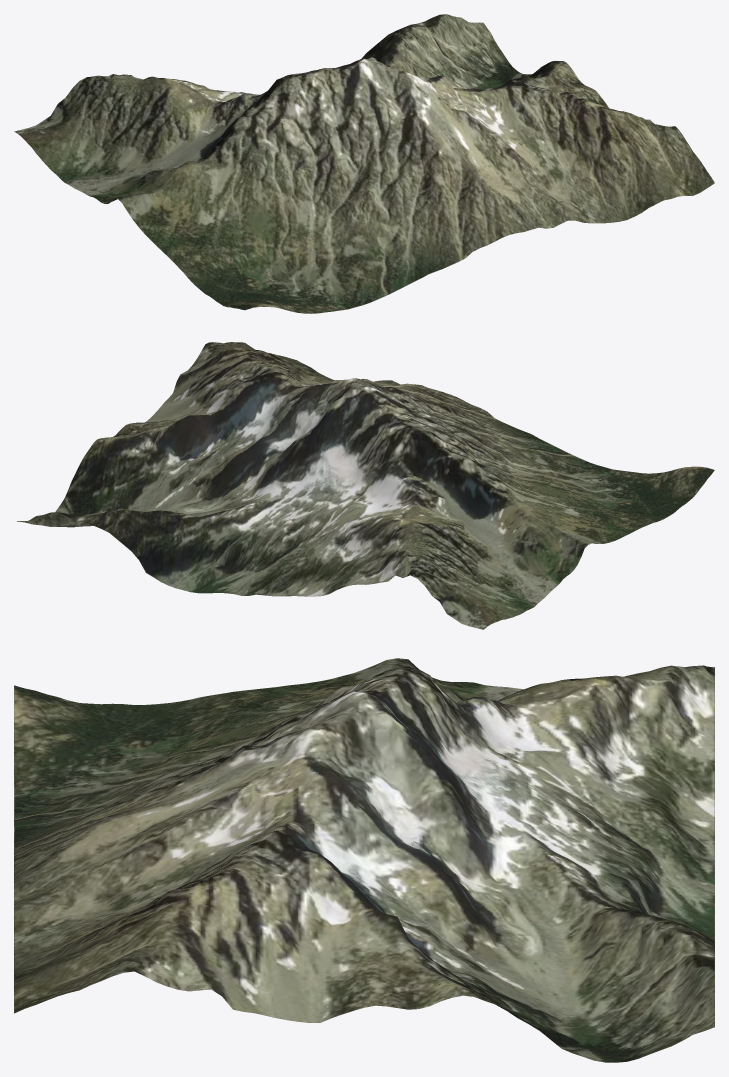
The model's file is stuart.glb.
3 views of the same model, one above another, from view 1: azimuth 30°, elevation 25°; view 2: azimuth 150°, elevation 25°; view 3: azimuth 270°, elevation 25° (orthographic). The views are drawn at different scales.
Visible parts, largest first — view 1: Object_2; view 2: Object_2; view 3: Object_2.
Boxes of the visible parts, <box> form: Object_2: <box>14,14,714,313</box>; Object_2: <box>17,342,714,629</box>; Object_2: <box>14,658,714,1062</box>.
Size of the model in its own units: 5198 by 1414 by 4433.
1 material, 1 textured.
